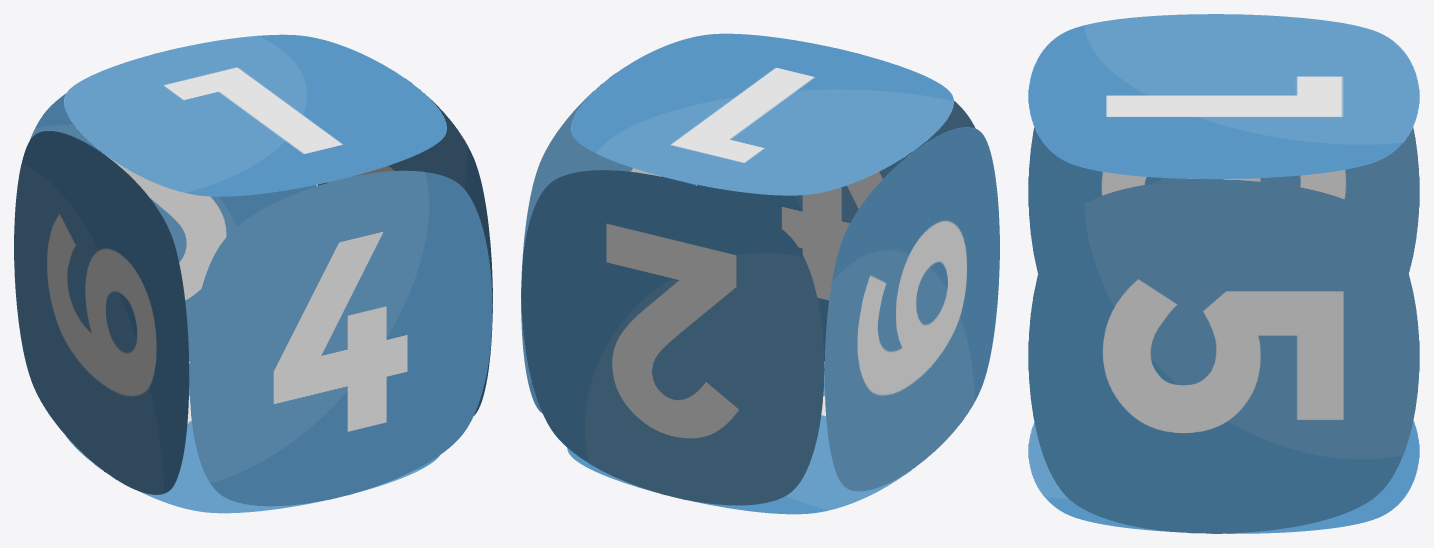
Rendered from cube_with_texture.obj.
The picture shows the model from 3 angles, left to right: view 1: azimuth 30°, elevation 25°; view 2: azimuth 150°, elevation 25°; view 3: azimuth 270°, elevation 25°; orthographic projection. The views are drawn at different scales.
Visible parts, largest first — view 1: Plane5_Плоскость.004, Plane2_Плоскость.001, Plane1_Плоскость, Plane3_Плоскость.002, Plane4_Плоскость.003, Plane6_Плоскость.005; view 2: Plane3_Плоскость.002, Plane2_Плоскость.001, Plane1_Плоскость, Plane5_Плоскость.004, Plane6_Плоскость.005, Plane4_Плоскость.003; view 3: Plane4_Плоскость.003, Plane1_Плоскость, Plane2_Плоскость.001, Plane6_Плоскость.005.
Boxes of the visible parts, x1,y1,x2,y2 form: Plane5_Плоскость.004: (189,170,492,506); Plane2_Плоскость.001: (14,131,189,494); Plane1_Плоскость: (64,34,446,196); Plane3_Плоскость.002: (30,93,316,361); Plane4_Плоскость.003: (317,83,492,415); Plane6_Плоскость.005: (67,363,439,513); Plane3_Плоскость.002: (521,170,824,505); Plane2_Плоскость.001: (824,127,999,491); Plane1_Плоскость: (571,33,953,195); Plane5_Плоскость.004: (696,101,975,361); Plane6_Плоскость.005: (567,363,911,514); Plane4_Плоскость.003: (521,73,696,413); Plane4_Плоскость.003: (1028,179,1419,533); Plane1_Плоскость: (1028,14,1419,179); Plane2_Плоскость.001: (1028,127,1419,273); Plane6_Плоскость.005: (1028,420,1419,533).
Bounding box in the file's own units: 2 × 2 × 2.
7 materials, 6 textured.
